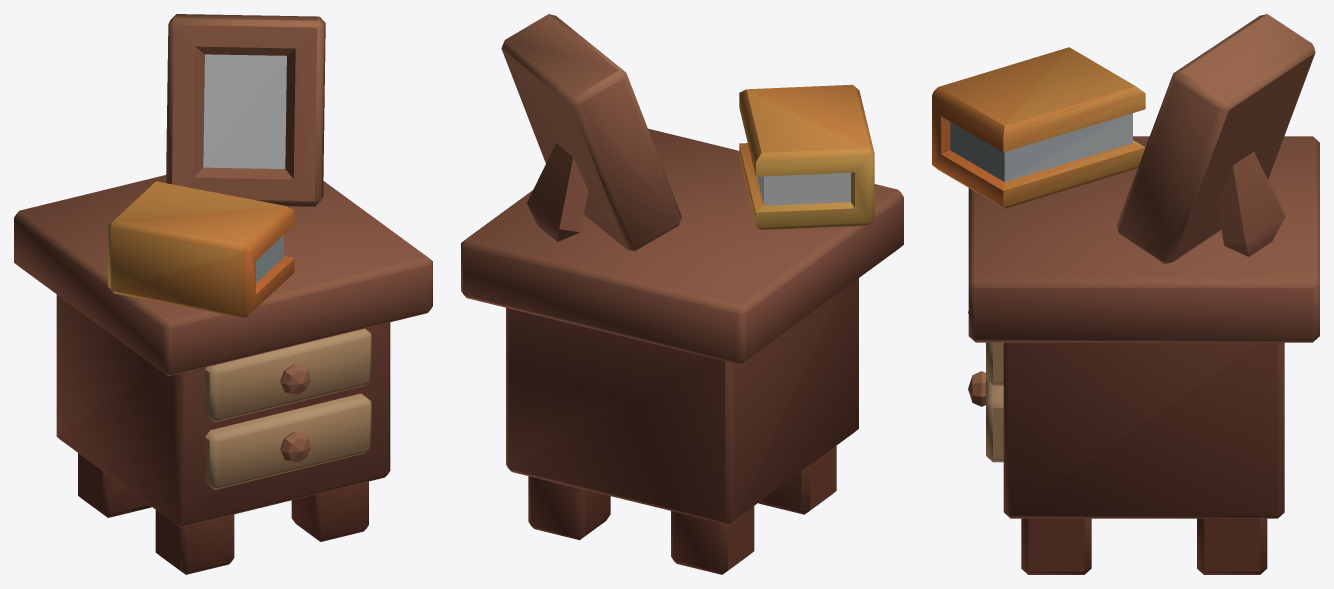
File: kk_furniture_cabinet_small_decorated.glb
3 views of the same model, side by side, from view 1: azimuth 30°, elevation 25°; view 2: azimuth 150°, elevation 25°; view 3: azimuth 270°, elevation 25° (orthographic). The views are drawn at different scales.
Parts seen in each view (by area): view 1: kk_furniture_cabinet_small_decorated; view 2: kk_furniture_cabinet_small_decorated; view 3: kk_furniture_cabinet_small_decorated.
Part boxes in pixels (x1,y1,x2,y2): kk_furniture_cabinet_small_decorated: (14, 14, 432, 574); kk_furniture_cabinet_small_decorated: (461, 14, 903, 574); kk_furniture_cabinet_small_decorated: (932, 14, 1319, 574).
Size of the model in its own units: 1.05 by 1.62 by 1.1.
